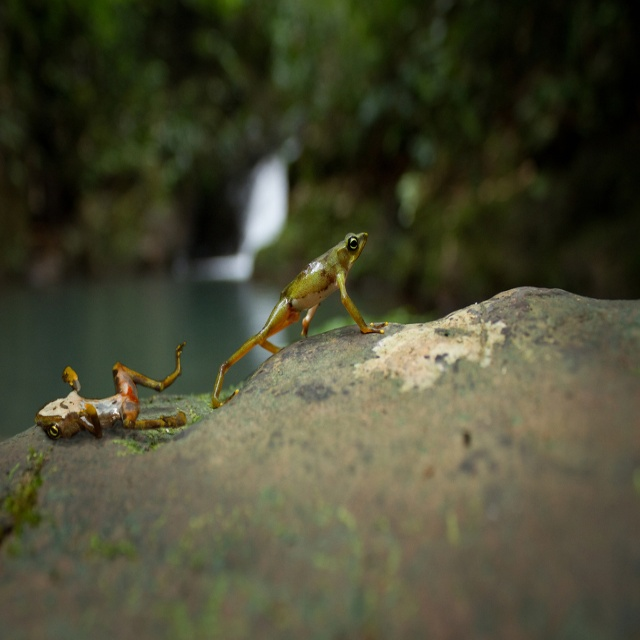Frog: (211, 232, 393, 409), (35, 337, 190, 433)
